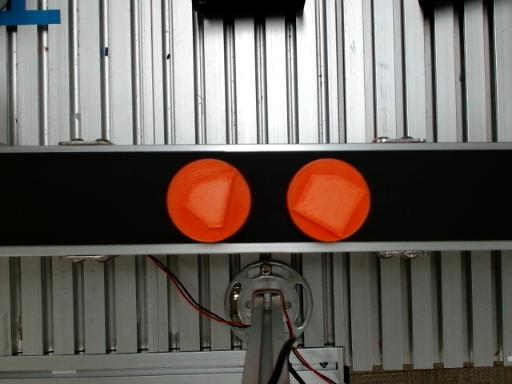Not_Square: (293, 172, 367, 236), (183, 170, 237, 228)
Orange_Waper: (166, 159, 250, 242), (287, 158, 368, 241)
